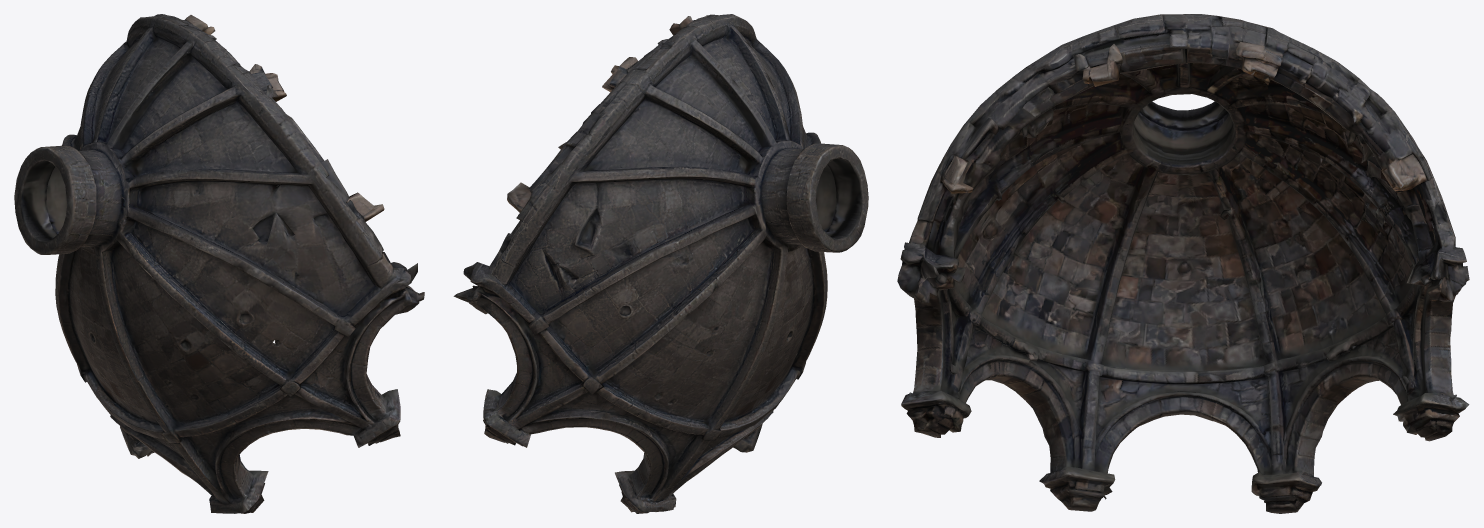
The model's file is prison_dome.glb.
3 views of the same model, side by side, from view 1: azimuth 30°, elevation 25°; view 2: azimuth 150°, elevation 25°; view 3: azimuth 270°, elevation 25° (orthographic). The views are drawn at different scales.
Visible parts, largest first — view 1: tripo_node_65da5614-d9cd-4921-8288-272c878764f0; view 2: tripo_node_65da5614-d9cd-4921-8288-272c878764f0; view 3: tripo_node_65da5614-d9cd-4921-8288-272c878764f0.
Boxes of the visible parts, x1,y1,x2,y2 form: tripo_node_65da5614-d9cd-4921-8288-272c878764f0: (14,14,424,513); tripo_node_65da5614-d9cd-4921-8288-272c878764f0: (453,14,868,513); tripo_node_65da5614-d9cd-4921-8288-272c878764f0: (897,14,1469,513).
Size of the model in its own units: 0.623 by 0.9661 by 1.
Materials: 1 (1 with a texture image).
